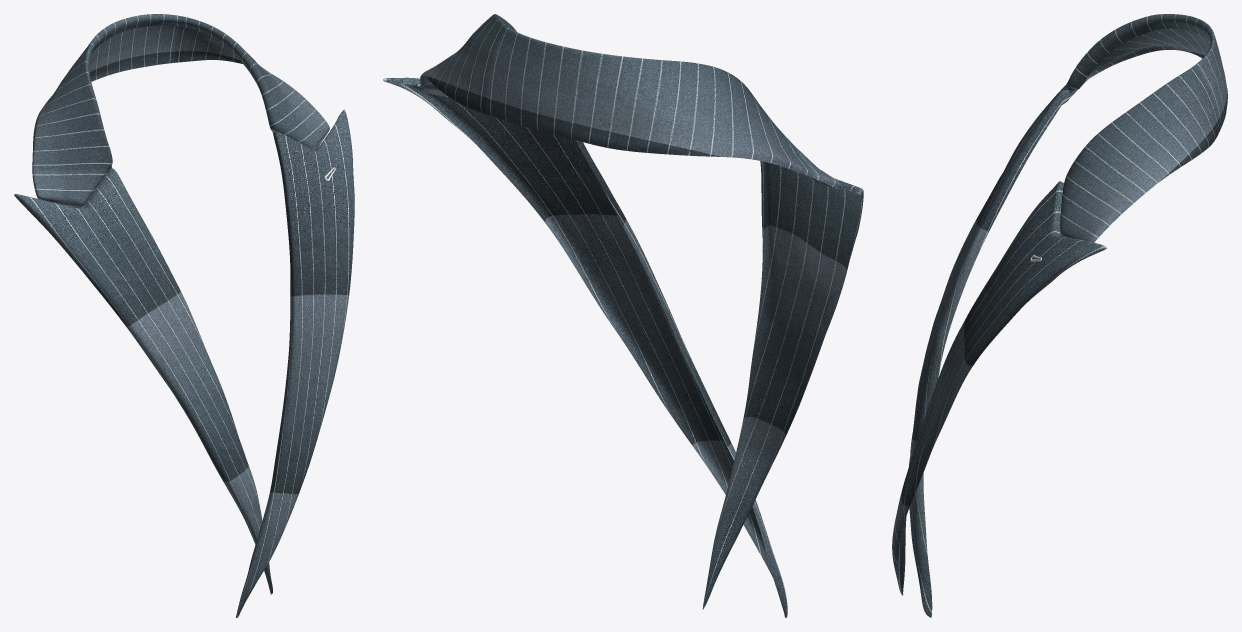
Rendered from notch_lapel.glb.
The picture shows the model from 3 angles, left to right: view 1: azimuth 30°, elevation 25°; view 2: azimuth 150°, elevation 25°; view 3: azimuth 270°, elevation 25°; orthographic projection. The views are drawn at different scales.
Visible parts, largest first — view 1: lapel_front, lapel_back; view 2: lapel_front, lapel_back; view 3: lapel_front, lapel_back.
Boxes of the visible parts, x1,y1,x2,y2 form: lapel_front: [14, 109, 354, 617]; lapel_back: [32, 14, 329, 208]; lapel_front: [383, 77, 863, 617]; lapel_back: [420, 14, 841, 190]; lapel_front: [892, 85, 1106, 617]; lapel_back: [1060, 14, 1227, 242].
Size of the model in its own units: 29.56 by 42 by 22.29.
Materials: 1 (1 with a texture image).
